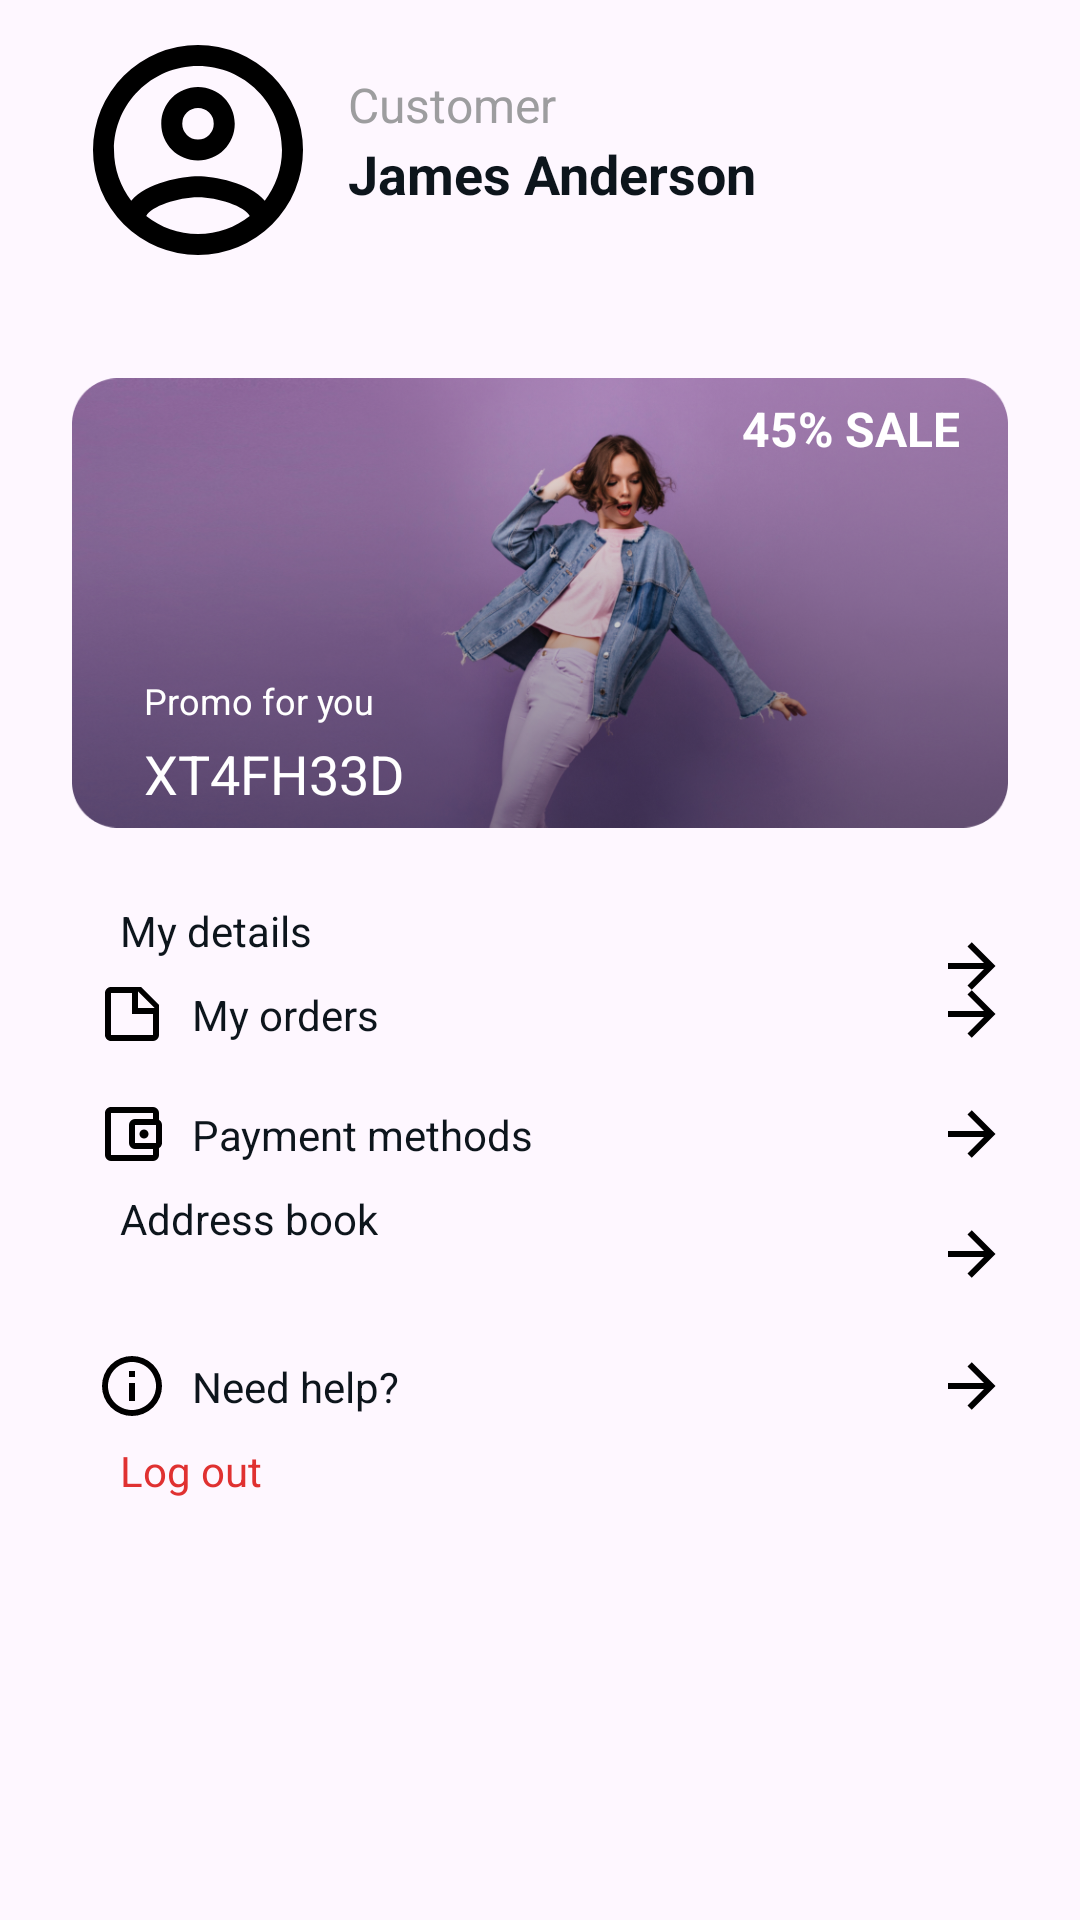

Icon click points for this 1080 × 1920 phone screenshot, format point (x, y):
info: point (132, 1386)
note: point (132, 1014)
Profile image: point (198, 150)
wallet: point (133, 1134)
